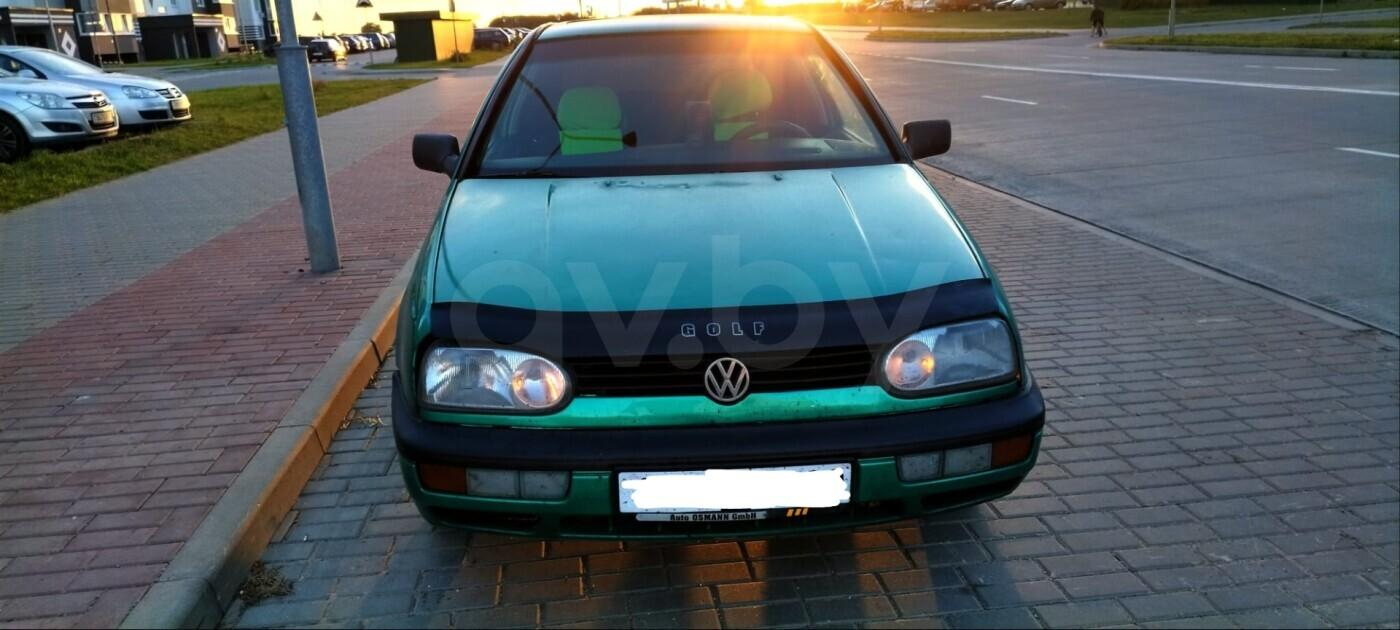Golf_1991-2000: (384, 21, 1049, 541)
